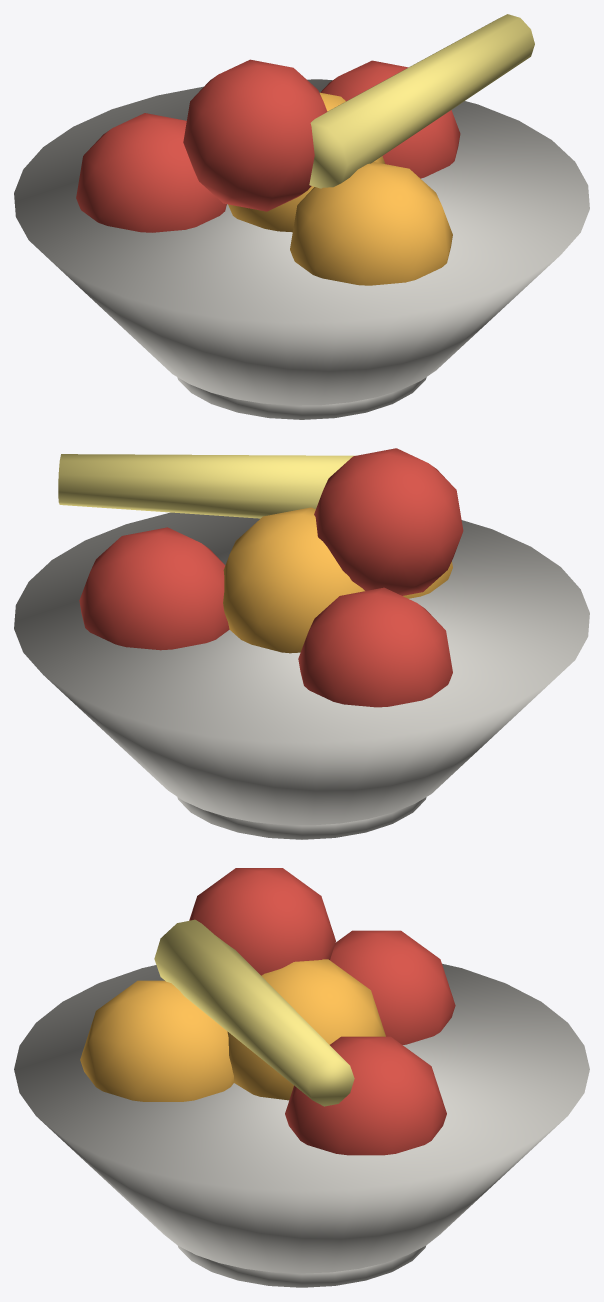
Rendered from Prop_FruitBowl.fbx.
3 renders of one model, top to bottom at view 1: azimuth 30°, elevation 25°; view 2: azimuth 150°, elevation 25°; view 3: azimuth 270°, elevation 25°, orthographic.
Visible parts, largest first — view 1: Prop_FruitBowl; view 2: Prop_FruitBowl; view 3: Prop_FruitBowl.
Boxes of the visible parts, box(x1,y1,x2,y2) form: Prop_FruitBowl: box(14, 14, 589, 419); Prop_FruitBowl: box(14, 448, 589, 839); Prop_FruitBowl: box(14, 868, 589, 1287).
Size of the model in its own units: 0.27 by 0.171 by 0.27.
